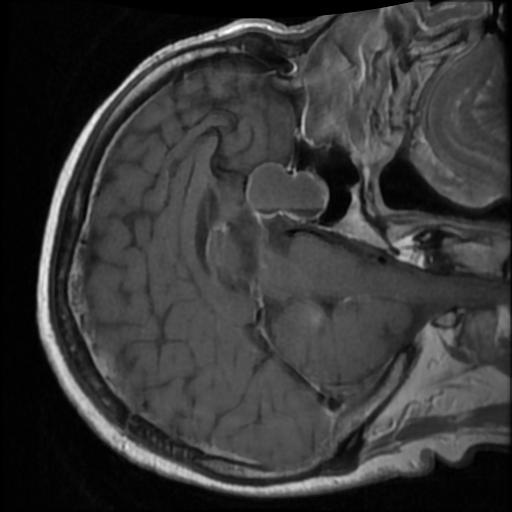pituitary tumour: (245, 161, 330, 221)
